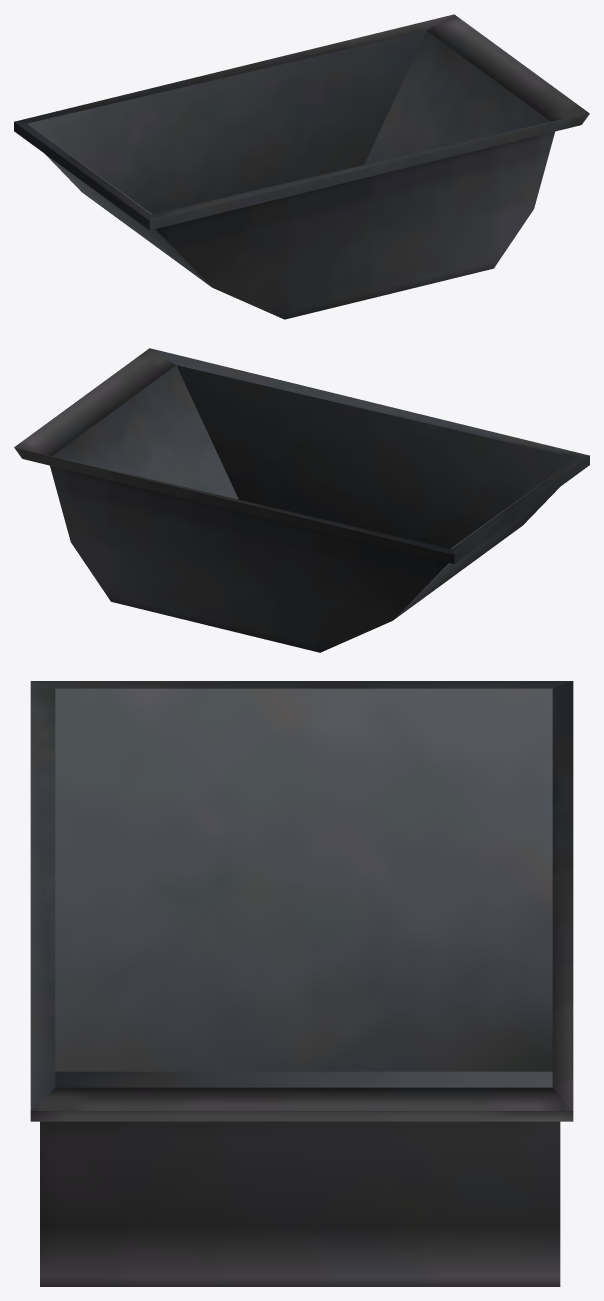
Rendered from refrigerator03_damaged_07.glb.
3 renders of one model, top to bottom at view 1: azimuth 30°, elevation 25°; view 2: azimuth 150°, elevation 25°; view 3: azimuth 270°, elevation 25°, orthographic. The views are drawn at different scales.
Visible parts, largest first — view 1: refrigerator03_damaged_07; view 2: refrigerator03_damaged_07; view 3: refrigerator03_damaged_07.
Boxes of the visible parts, x1=… form: refrigerator03_damaged_07: x1=14, y1=14, x2=589, y2=319; refrigerator03_damaged_07: x1=14, y1=348, x2=589, y2=652; refrigerator03_damaged_07: x1=30, y1=681, x2=573, y2=1286.
Size of the model in its own units: 0.3035 by 0.0881 by 0.1619.
Materials: 1 (1 with a texture image).
